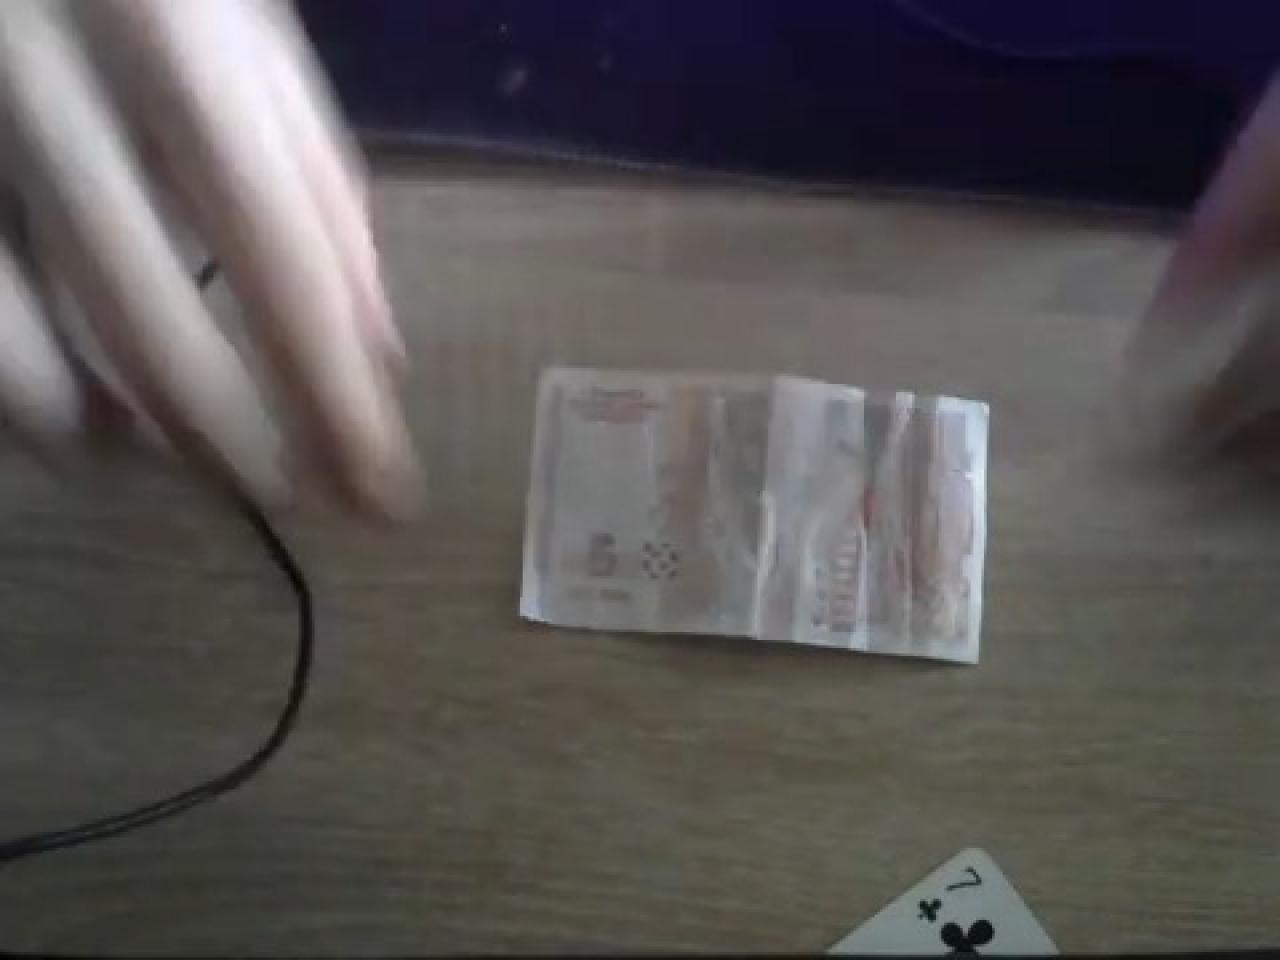5leva: (520, 368, 990, 670)
